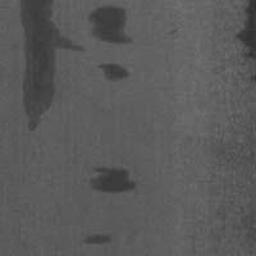Oil spot: (18, 0, 87, 134), (86, 4, 136, 47), (88, 165, 140, 196), (96, 61, 132, 83), (81, 233, 114, 246)
